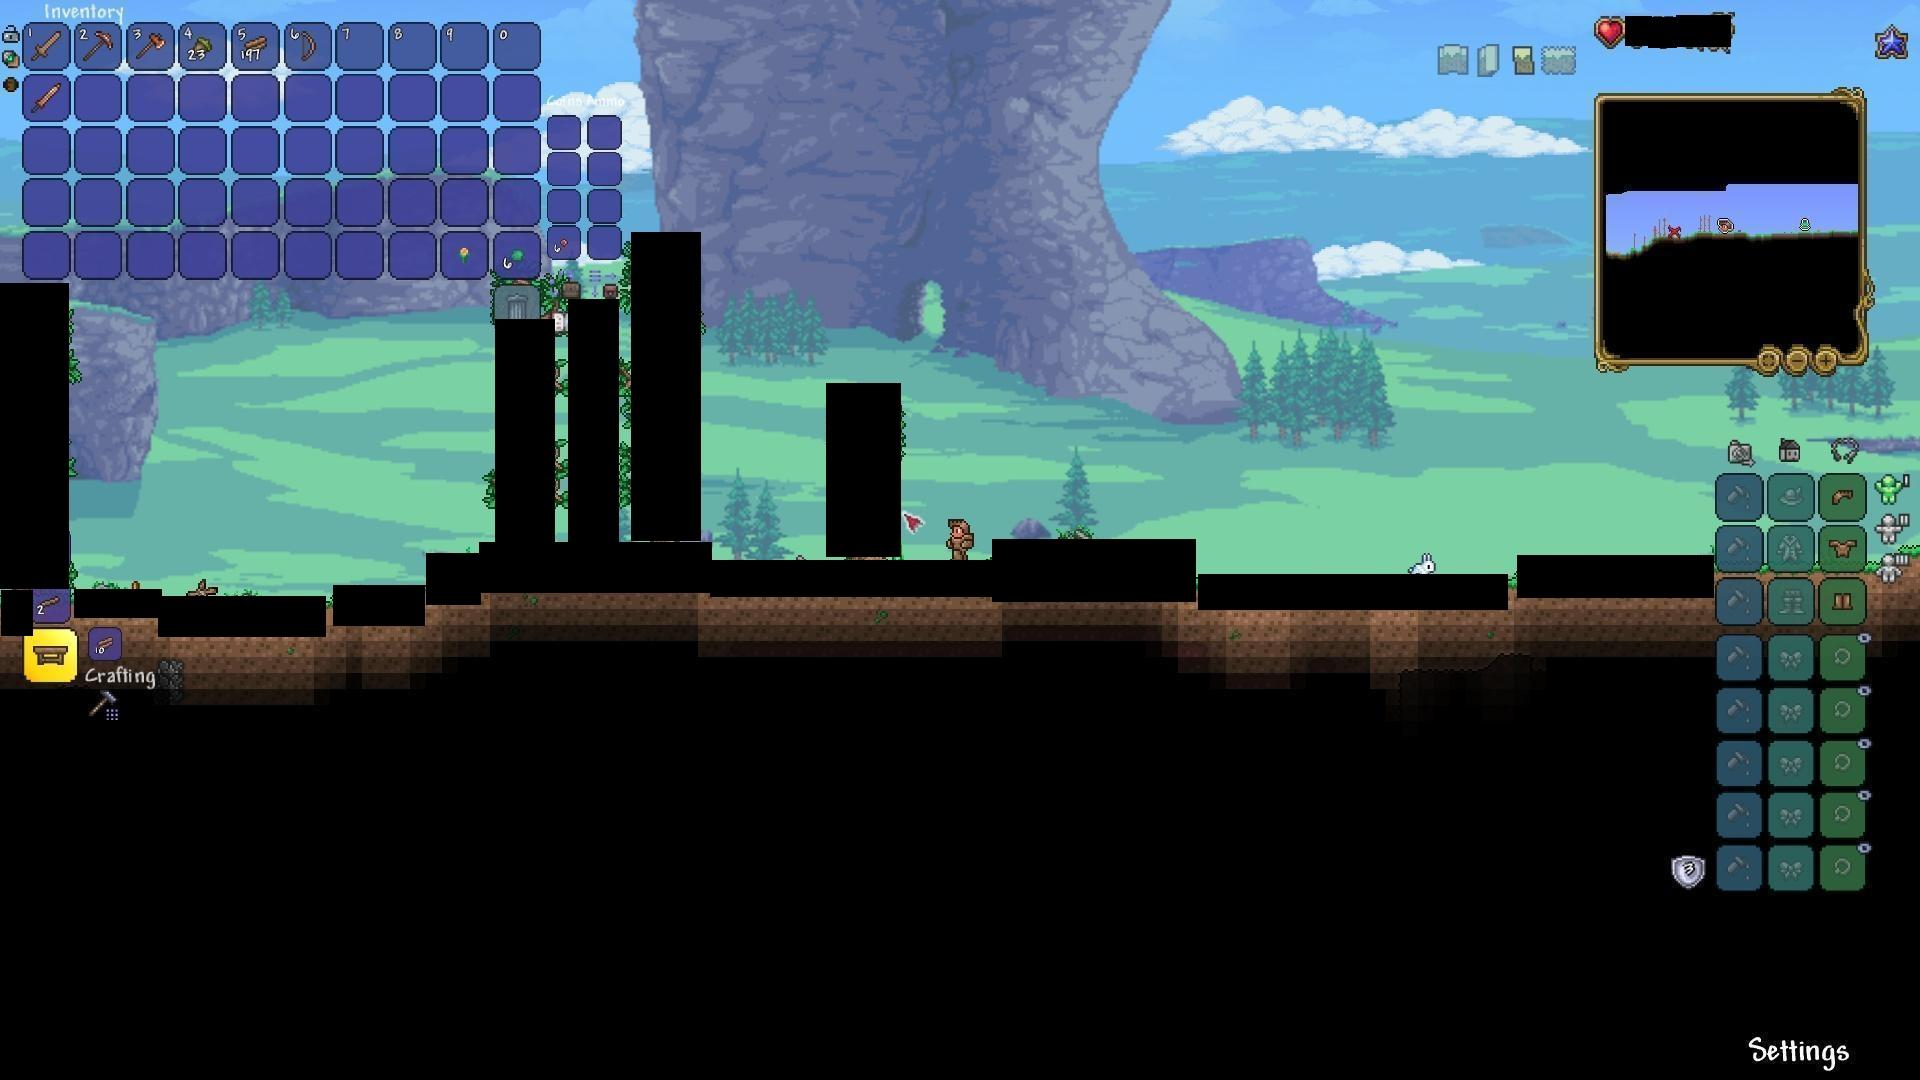breastplate: (1830, 537, 1859, 558)
heart: (1596, 15, 1625, 44)
helmet: (1828, 485, 1857, 510)
legs: (1832, 587, 1857, 615)
wood: (239, 29, 272, 59), (88, 629, 120, 659)
workbench: (33, 645, 65, 669)
